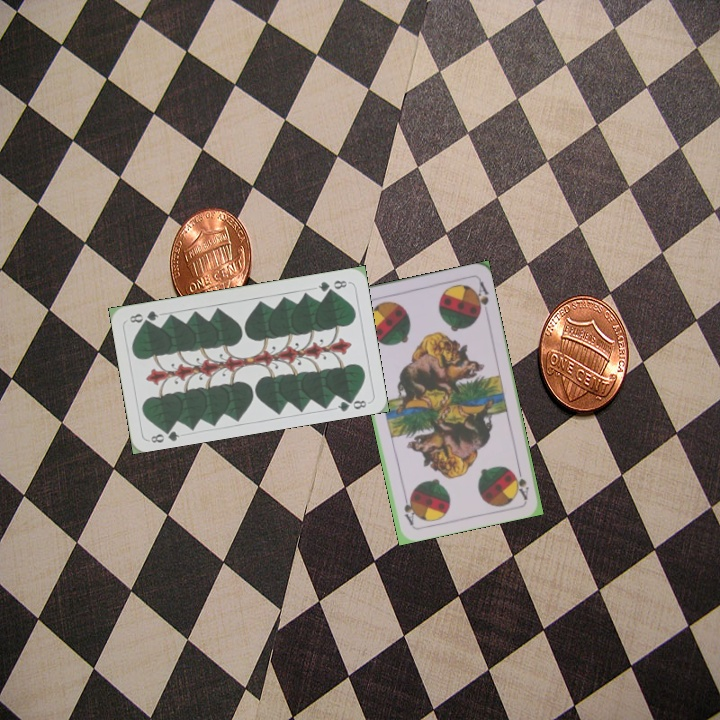G8: (147, 423, 182, 446), (314, 276, 351, 295)
SA: (510, 461, 532, 502)
